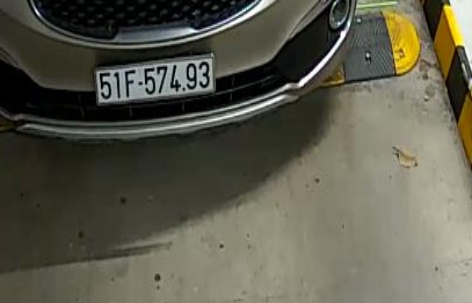plate: (95, 54, 221, 109)
